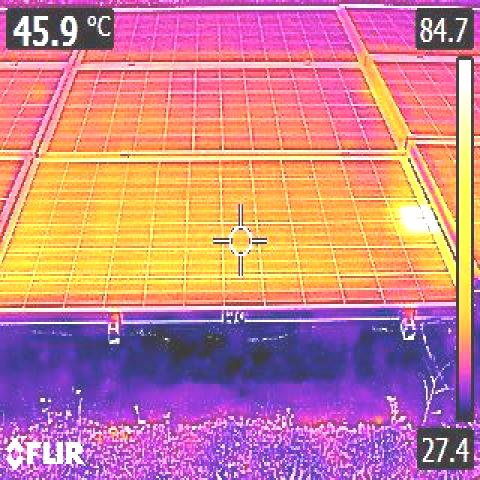fault: (400, 206, 428, 236)
